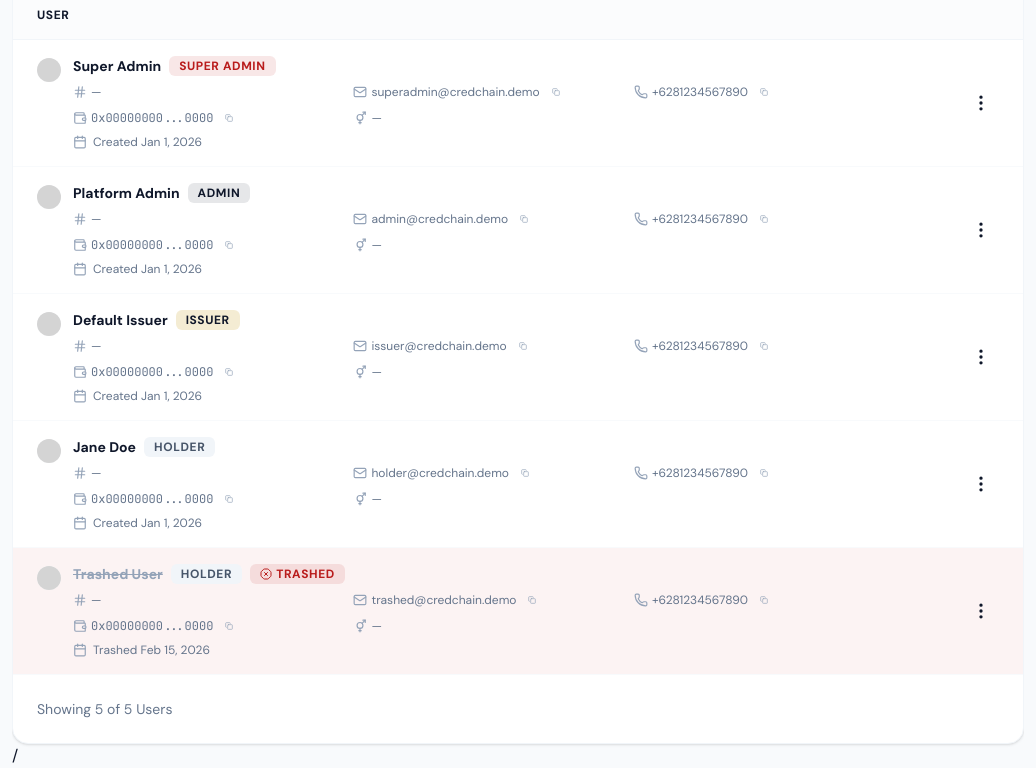
Test: UserList › renders Edit menu item enabled for deleted users (opens Restore dialog)
(page scrolled)
Expected: the link "Trashed User" is shown, [73,564,163,584]
Trashed user is the 5th row (index 4)
Click the button named "actions" in the row of "trashed@credchain.demo" at (981, 611), box [963,593,999,629]
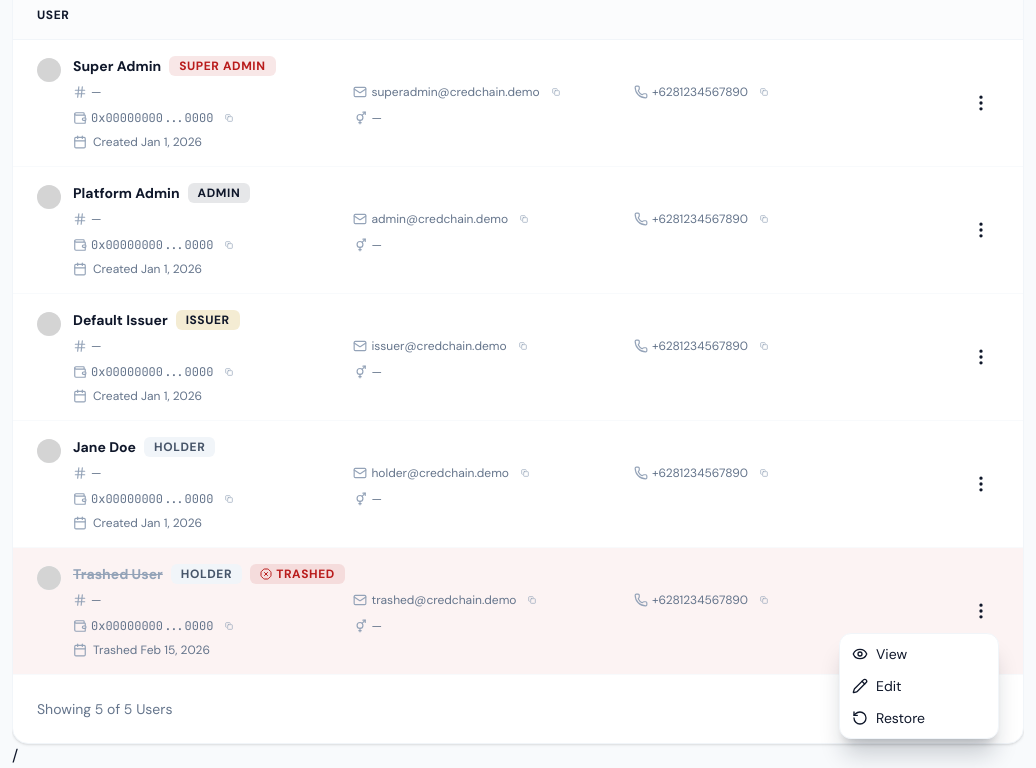
Now the menu item "Edit" is shown, box [852,677,902,695]
